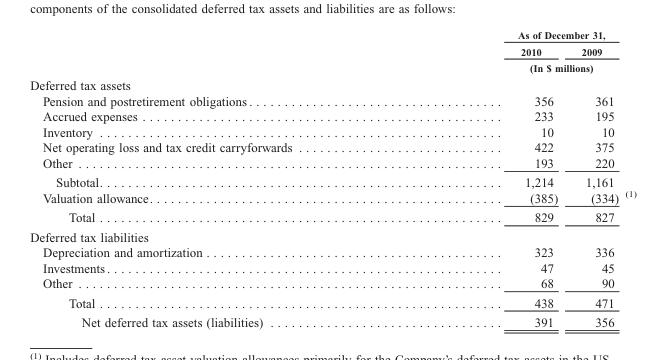table: (29, 28, 635, 328)
table column: (29, 28, 404, 328), (404, 28, 569, 328), (569, 28, 621, 328), (621, 28, 635, 328)
table column header: (29, 28, 635, 75)
table projected row header: (29, 226, 635, 244), (29, 75, 635, 92)
table row: (29, 188, 635, 207), (29, 207, 635, 226), (29, 292, 635, 311), (29, 154, 635, 172), (29, 226, 635, 244), (29, 42, 635, 59), (29, 75, 635, 92), (29, 275, 635, 292), (29, 311, 635, 328), (29, 59, 635, 75), (29, 92, 635, 108), (29, 123, 635, 139), (29, 172, 635, 188), (29, 259, 635, 275), (29, 108, 635, 123), (29, 139, 635, 154), (29, 244, 635, 259), (29, 28, 635, 42)
table spanning cell: (404, 59, 621, 75), (404, 28, 621, 42)
